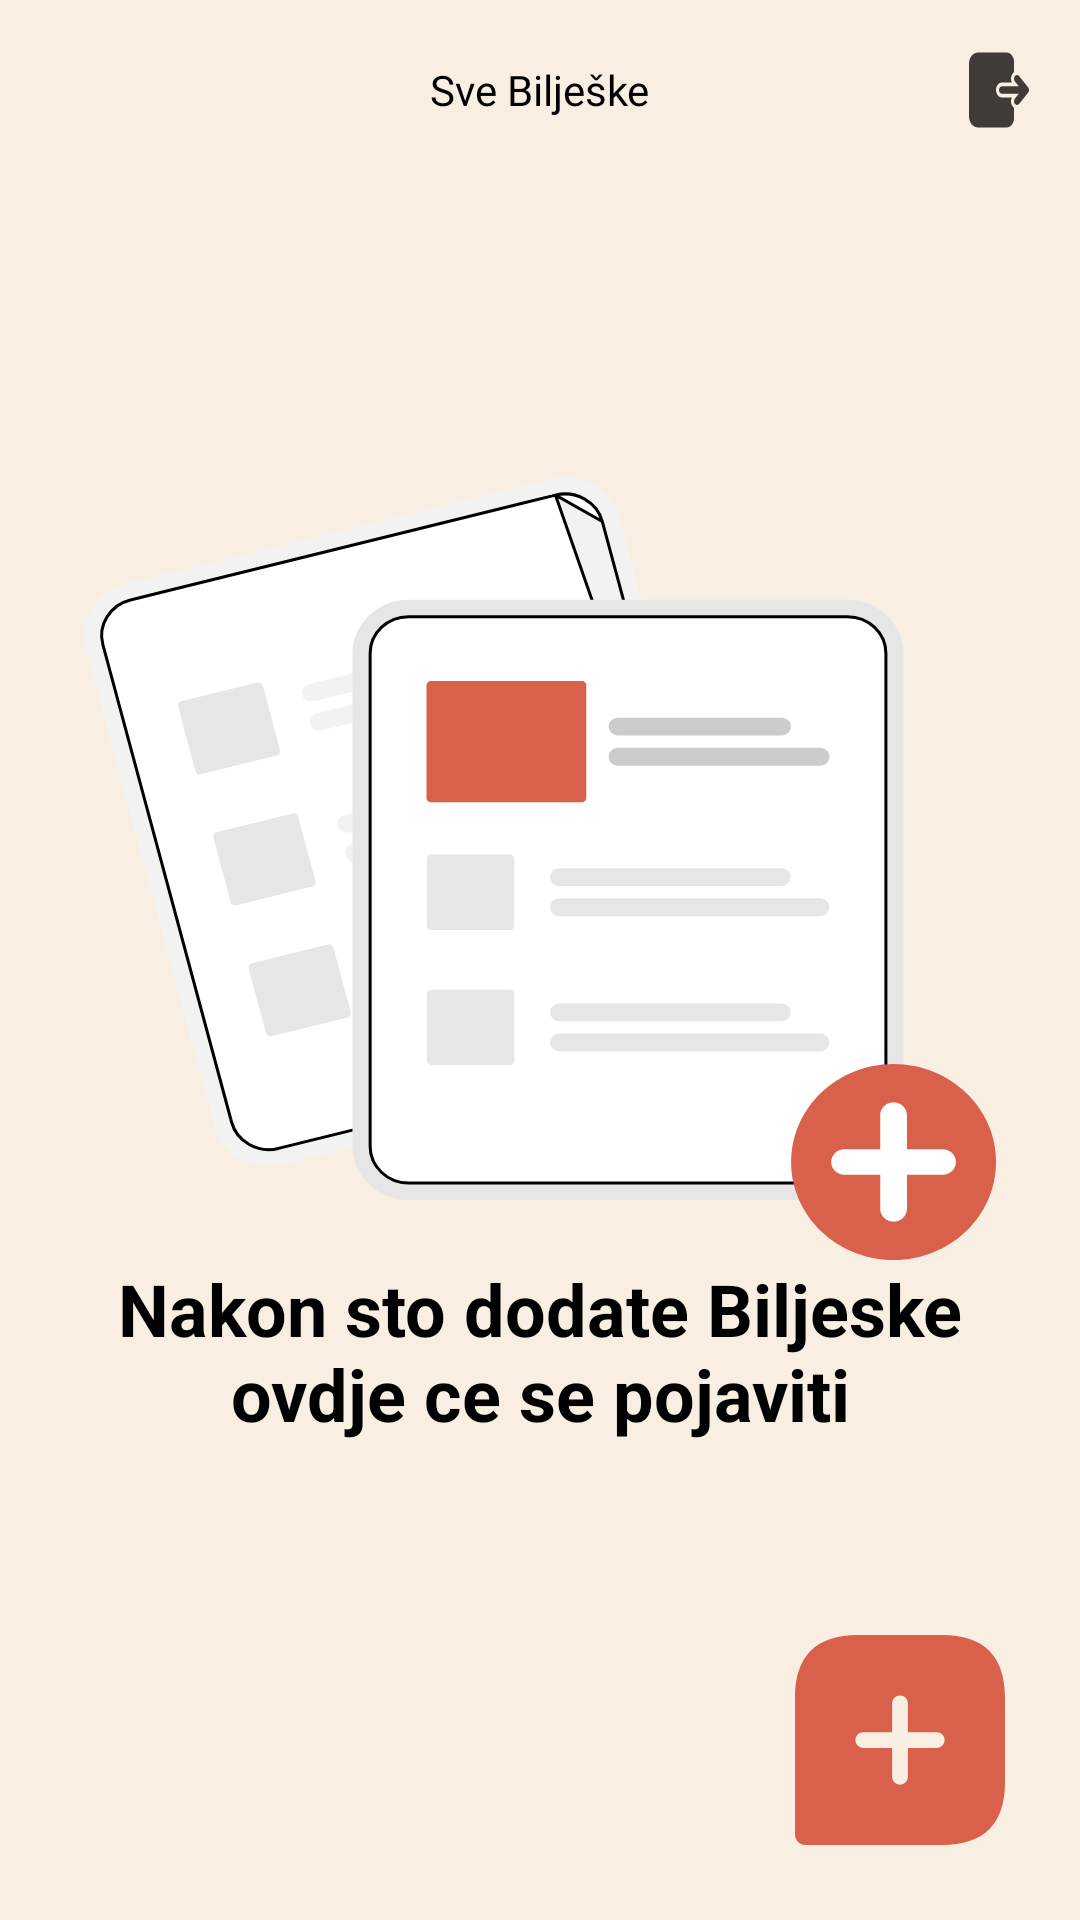

Locate icon controls on the screen. Image size 1080x1920, boxes as [left=x1, top=y1, right=x2, bottom=y2].
add note: [left=795, top=1635, right=1005, bottom=1845]
log out: [left=969, top=52, right=1029, bottom=128]
